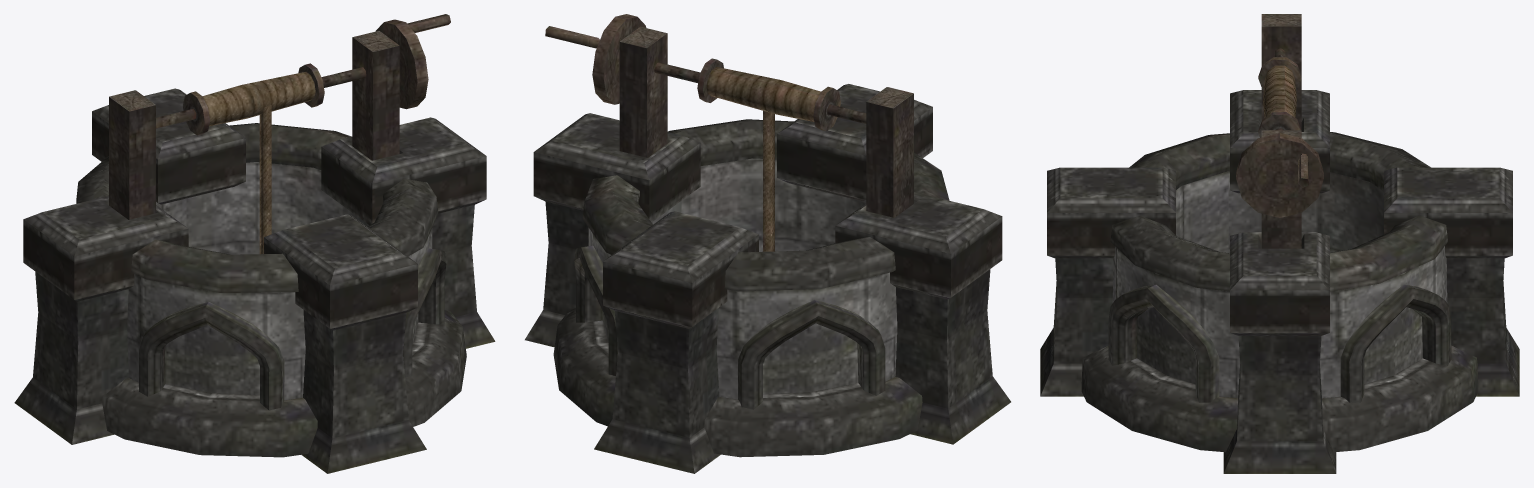
The model's file is eso_gu11_StoneWell2-transformed.glb.
3 views of the same model, side by side, from view 1: azimuth 30°, elevation 25°; view 2: azimuth 150°, elevation 25°; view 3: azimuth 270°, elevation 25° (orthographic). The views are drawn at different scales.
Visible parts, largest first — view 1: default; view 2: default; view 3: default.
Boxes of the visible parts, bbox=[...] form: default: bbox=[14, 14, 495, 473]; default: bbox=[525, 14, 1010, 473]; default: bbox=[1040, 14, 1519, 473].
Size of the model in its own units: 2.99 by 2.11 by 2.99.
2 materials, 2 textured.
